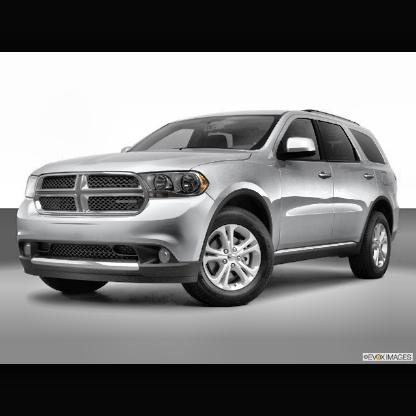Dodge Durango SUV 2012: (17, 110, 401, 308)
